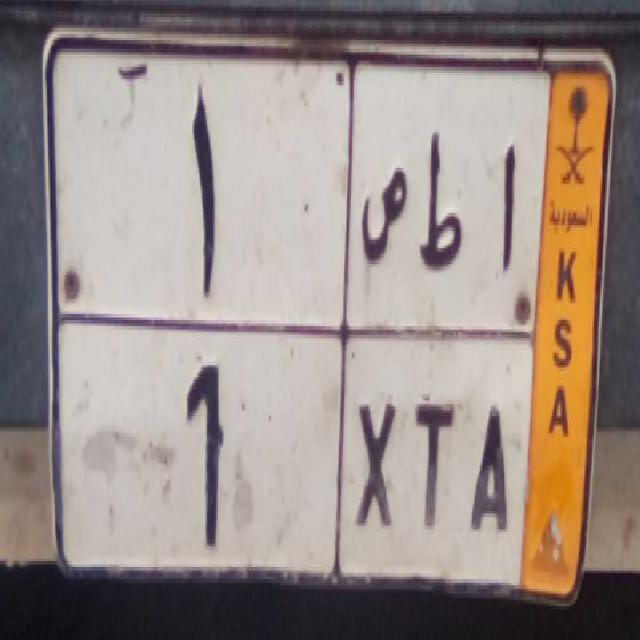license_plate: (51, 312, 529, 596)
